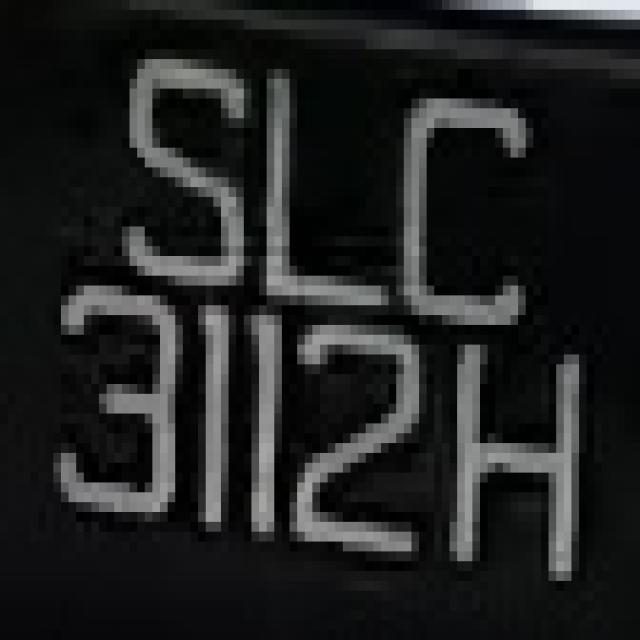1: (244, 266, 297, 571), (198, 256, 236, 551)
2: (282, 295, 434, 571)
3: (38, 246, 183, 532)
C: (381, 69, 556, 335)
H: (442, 305, 609, 591)
L: (251, 49, 381, 325)
S: (91, 29, 244, 296)
